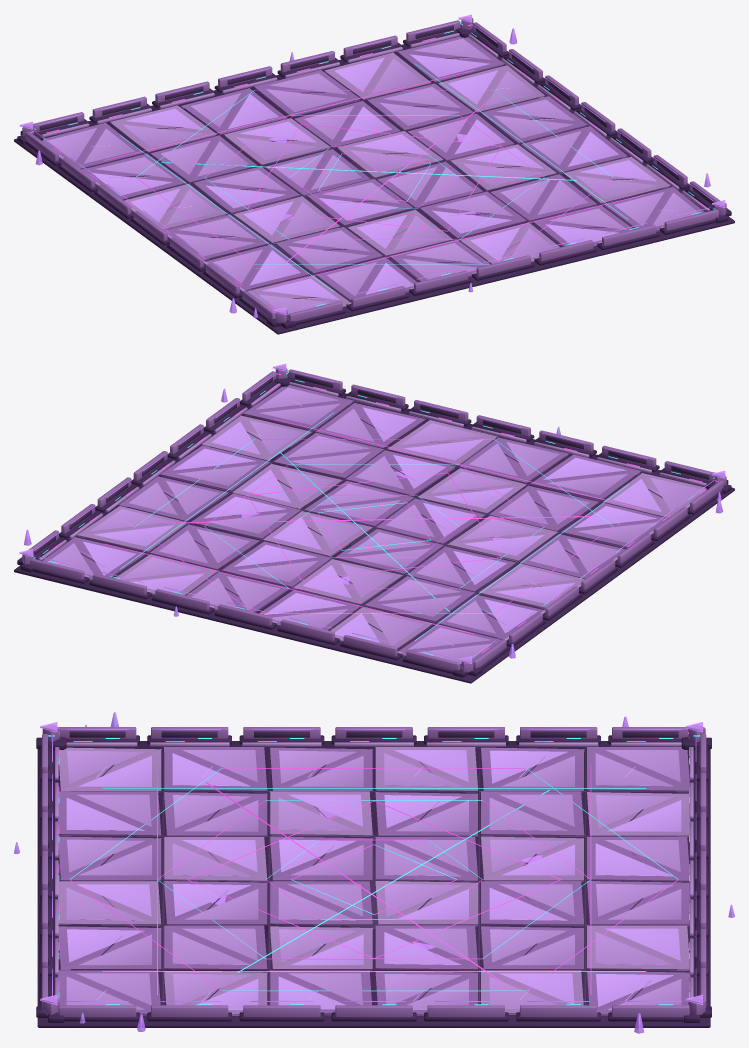
File: sector_2_prism_rift_arena.glb
3 renders of one model, top to bottom at view 1: azimuth 30°, elevation 25°; view 2: azimuth 150°, elevation 25°; view 3: azimuth 270°, elevation 25°, orthographic. The views are drawn at different scales.
Visible parts, largest first — view 1: Sector2PrismRiftContinuousDarkUnderfloorSlab, Sector2ReadablePrismFloorFaceR5C1A, Sector2ReadablePrismFloorFaceR5C5A, Sector2ReadablePrismFloorFaceR1C5A, Sector2ReadablePrismFloorFaceR1C1A, Sector2ReadablePrismFloorFaceR4C4A, Sector2ReadablePrismFloorFaceR5C3A, Sector2ReadablePrismFloorFaceR3C5A, Sector2ReadablePrismFloorFaceR4C2A, Sector2ReadablePrismFloorFaceR1C3A, Sector2ReadablePrismFloorFaceR3C1A, Sector2ReadablePrismFloorFaceR2C0A (+139 smaller); view 2: Sector2PrismRiftContinuousDarkUnderfloorSlab, Sector2FracturedPrismDeckR2C5B, Sector2FracturedPrismDeckR0C5B, Sector2FracturedPrismDeckR4C5B, Sector2ReadablePrismFloorFaceR4C1A, Sector2ReadablePrismFloorFaceR4C4A, Sector2ReadablePrismFloorFaceR5C4A, Sector2ReadablePrismFloorFaceR1C1A, Sector2ReadablePrismFloorFaceR1C5A, Sector2ReadablePrismFloorFaceR0C4A, Sector2ReadablePrismFloorFaceR1C4A, Sector2ReadablePrismFloorFaceR5C0A (+139 smaller); view 3: Sector2PrismRiftContinuousDarkUnderfloorSlab, Sector2ReadablePrismFloorFaceR0C0A, Sector2ReadablePrismFloorFaceR4C0A, Sector2ReadablePrismFloorFaceR4C4A, Sector2ReadablePrismFloorFaceR0C4A, Sector2ReadablePrismFloorFaceR0C2A, Sector2ReadablePrismFloorFaceR4C2A, Sector2ReadablePrismFloorFaceR5C1A, Sector2ReadablePrismFloorFaceR2C0A, Sector2ReadablePrismFloorFaceR5C5A, Sector2ReadablePrismFloorFaceR1C1A, Sector2ReadablePrismFloorFaceR3C1A (+158 smaller).
Part boxes in pixels (<box>): Sector2PrismRiftContinuousDarkUnderfloorSlab: <box>14,36,734,334</box>; Sector2ReadablePrismFloorFaceR5C1A: <box>122,124,202,147</box>; Sector2ReadablePrismFloorFaceR5C5A: <box>410,54,489,77</box>; Sector2ReadablePrismFloorFaceR1C5A: <box>576,176,655,198</box>; Sector2ReadablePrismFloorFaceR1C1A: <box>288,246,368,268</box>; Sector2ReadablePrismFloorFaceR4C4A: <box>379,102,459,125</box>; Sector2ReadablePrismFloorFaceR5C3A: <box>266,89,345,111</box>; Sector2ReadablePrismFloorFaceR3C5A: <box>493,115,573,138</box>; Sector2ReadablePrismFloorFaceR4C2A: <box>236,137,315,160</box>; Sector2ReadablePrismFloorFaceR1C3A: <box>432,210,511,233</box>; Sector2ReadablePrismFloorFaceR3C1A: <box>205,185,284,208</box>; Sector2ReadablePrismFloorFaceR2C0A: <box>175,233,254,256</box>; Sector2PrismRiftContinuousDarkUnderfloorSlab: <box>14,386,734,683</box>; Sector2FracturedPrismDeckR2C5B: <box>160,461,270,491</box>; Sector2FracturedPrismDeckR0C5B: <box>243,400,352,430</box>; Sector2FracturedPrismDeckR4C5B: <box>77,523,186,552</box>; Sector2ReadablePrismFloorFaceR4C1A: <box>377,579,460,601</box>; Sector2ReadablePrismFloorFaceR4C4A: <box>196,529,249,562</box>; Sector2ReadablePrismFloorFaceR5C4A: <box>120,557,203,579</box>; Sector2ReadablePrismFloorFaceR1C1A: <box>536,490,589,524</box>; Sector2ReadablePrismFloorFaceR1C5A: <box>249,420,302,453</box>; Sector2ReadablePrismFloorFaceR0C4A: <box>362,407,415,441</box>; Sector2ReadablePrismFloorFaceR1C4A: <box>286,436,369,457</box>; Sector2ReadablePrismFloorFaceR5C0A: <box>408,627,490,649</box>; Sector2PrismRiftContinuousDarkUnderfloorSlab: <box>37,741,710,1027</box>; Sector2ReadablePrismFloorFaceR0C0A: <box>67,750,144,783</box>; Sector2ReadablePrismFloorFaceR4C0A: <box>490,750,567,783</box>; Sector2ReadablePrismFloorFaceR4C4A: <box>490,929,567,962</box>; Sector2ReadablePrismFloorFaceR0C4A: <box>67,929,144,962</box>; Sector2ReadablePrismFloorFaceR0C2A: <box>67,839,144,872</box>; Sector2ReadablePrismFloorFaceR4C2A: <box>490,839,567,872</box>; Sector2ReadablePrismFloorFaceR5C1A: <box>596,795,673,827</box>; Sector2ReadablePrismFloorFaceR2C0A: <box>279,750,355,783</box>; Sector2ReadablePrismFloorFaceR5C5A: <box>596,974,673,1006</box>; Sector2ReadablePrismFloorFaceR1C1A: <box>173,795,250,827</box>; Sector2ReadablePrismFloorFaceR3C1A: <box>384,795,461,827</box>.
Bounding box in the file's own units: 62.83 × 2.26 × 62.55.
